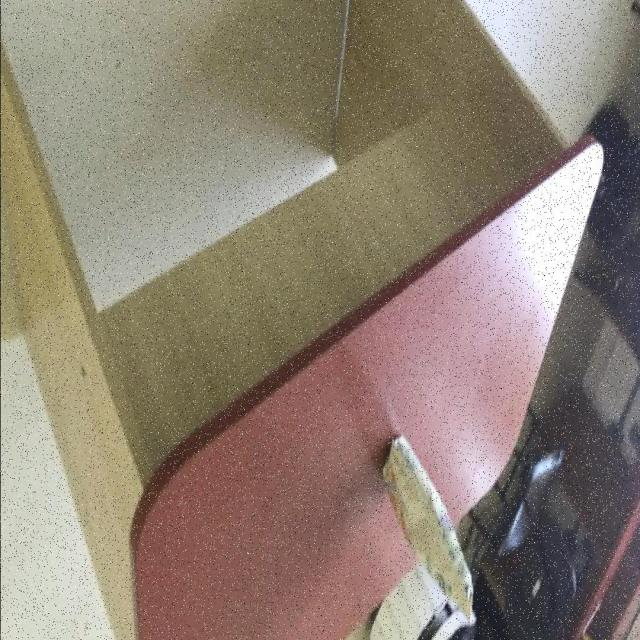CornFlakes: (382, 432, 478, 626)
